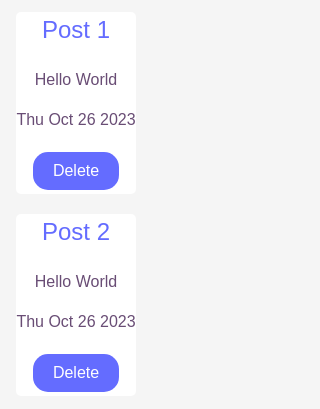
PostsList component › deletes a post when the delete button is clicked
This screenshot has width=320, height=409.
expect the link "Post 1" is shown: met, box x1=42 y1=16 x2=110 y2=43
What coordinates should you click on to do the following:
click the button "Delete" below "Post 1"
I would click on:
 (76, 171)
Its box is x1=33 y1=152 x2=119 y2=190.
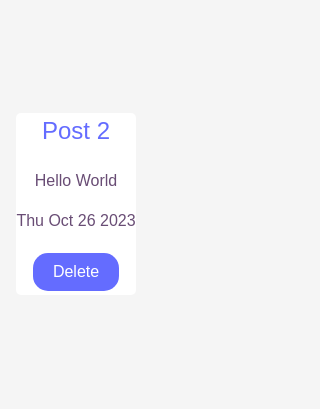
expect the link "Post 1" is gone: met
